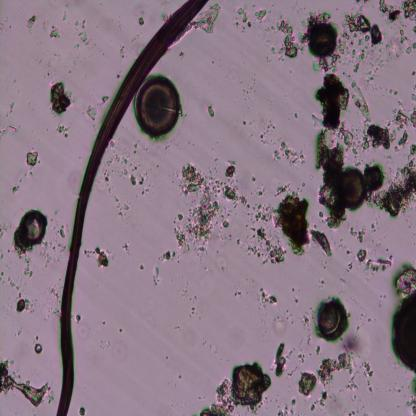Background material: (175, 156, 220, 264), (318, 124, 348, 232), (0, 350, 49, 414), (369, 160, 416, 217), (230, 358, 274, 415), (274, 196, 311, 257), (310, 73, 346, 132), (242, 222, 286, 264), (103, 143, 140, 187), (356, 120, 396, 156), (342, 358, 376, 398), (200, 378, 234, 416), (368, 38, 404, 73), (316, 347, 350, 384), (337, 333, 374, 366), (346, 8, 378, 45), (10, 239, 36, 282), (274, 17, 298, 62), (357, 247, 391, 278), (309, 227, 335, 264), (195, 2, 226, 32), (48, 79, 74, 112), (40, 283, 62, 321), (219, 179, 246, 207), (339, 122, 360, 158), (388, 269, 416, 295), (170, 224, 194, 254), (280, 141, 308, 166), (85, 93, 106, 124), (256, 283, 280, 308), (314, 51, 344, 71), (394, 105, 416, 132), (43, 237, 63, 265), (246, 203, 271, 225), (401, 0, 416, 36), (304, 5, 332, 24), (349, 44, 368, 72), (378, 0, 401, 23), (272, 344, 287, 378), (296, 372, 314, 400), (89, 246, 110, 270), (232, 5, 252, 30), (403, 377, 416, 415), (113, 192, 131, 219), (273, 311, 291, 336), (260, 118, 276, 146), (0, 118, 19, 139), (70, 22, 89, 42), (347, 224, 368, 242), (15, 295, 33, 316), (130, 167, 146, 190), (276, 396, 294, 416), (336, 30, 352, 52), (23, 152, 41, 170), (44, 26, 63, 42), (19, 13, 42, 26), (52, 120, 69, 137), (150, 264, 162, 286), (5, 98, 19, 116), (395, 132, 409, 150), (298, 33, 310, 53), (224, 159, 237, 177), (255, 4, 268, 21), (300, 312, 312, 330), (317, 388, 329, 405), (135, 14, 150, 27), (159, 250, 172, 264), (44, 389, 56, 404), (405, 40, 416, 56), (270, 146, 280, 163), (409, 80, 416, 102), (384, 84, 398, 95), (0, 218, 9, 235), (296, 350, 306, 365), (206, 104, 217, 117), (221, 218, 232, 230), (76, 403, 86, 416), (99, 342, 111, 352), (124, 238, 132, 253), (319, 206, 326, 223), (408, 146, 416, 160), (399, 29, 407, 43), (10, 182, 22, 191), (34, 343, 42, 356), (345, 261, 354, 270), (256, 187, 264, 197), (348, 408, 357, 416), (140, 186, 149, 194), (311, 401, 317, 413), (0, 268, 6, 280), (269, 45, 275, 55), (306, 336, 312, 346), (118, 326, 125, 334), (190, 306, 196, 315), (75, 314, 80, 324), (299, 180, 306, 187), (314, 348, 322, 354), (346, 248, 352, 256), (366, 318, 374, 324), (292, 112, 300, 118), (250, 174, 256, 182), (371, 224, 377, 232), (236, 237, 241, 246), (62, 229, 67, 238), (232, 291, 241, 296), (410, 70, 416, 77), (320, 279, 324, 288), (356, 326, 362, 332), (177, 374, 183, 380), (194, 293, 199, 299), (140, 264, 144, 271), (295, 298, 300, 302), (243, 119, 246, 125), (292, 288, 295, 292)
Diatom: (134, 75, 190, 139), (391, 290, 416, 376), (316, 298, 352, 346), (343, 69, 374, 120), (336, 165, 369, 211), (308, 20, 338, 55), (16, 212, 47, 242), (363, 164, 387, 194)
Microfibre: (58, 0, 219, 416)
